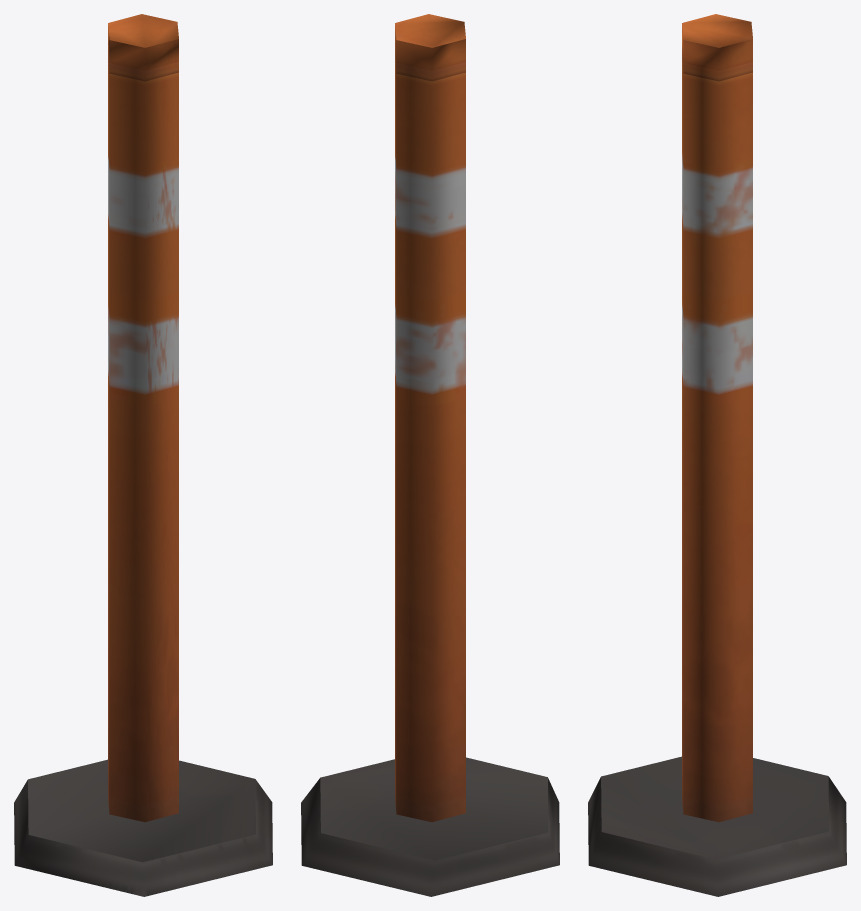
Rendered from Traffic_Cone_03.fbx.
The picture shows the model from 3 angles, left to right: view 1: azimuth 30°, elevation 25°; view 2: azimuth 150°, elevation 25°; view 3: azimuth 270°, elevation 25°; orthographic projection.
Visible parts, largest first — view 1: SM_Traffic_Cone_03; view 2: SM_Traffic_Cone_03; view 3: SM_Traffic_Cone_03.
Part boxes in pixels (x1=…): SM_Traffic_Cone_03: x1=14, y1=14, x2=272, y2=896; SM_Traffic_Cone_03: x1=301, y1=14, x2=559, y2=896; SM_Traffic_Cone_03: x1=588, y1=14, x2=846, y2=896.
Size of the model in its own units: 0.3055 by 0.9078 by 0.2653.
